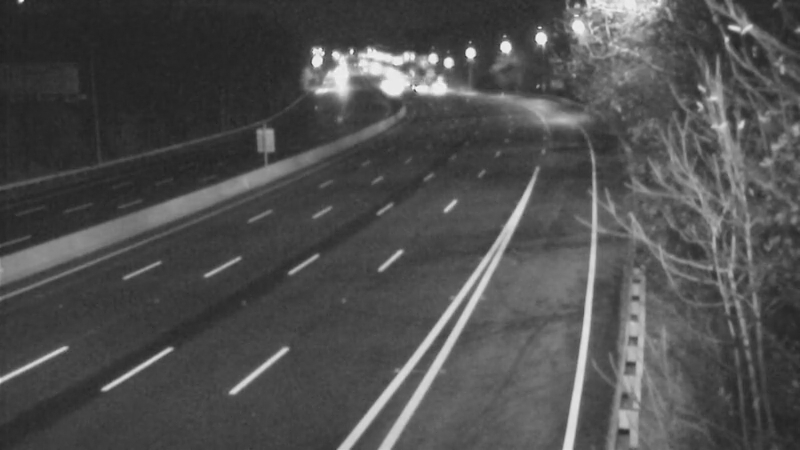vehicle: (397, 62, 447, 112), (409, 64, 459, 114), (367, 62, 417, 112)
